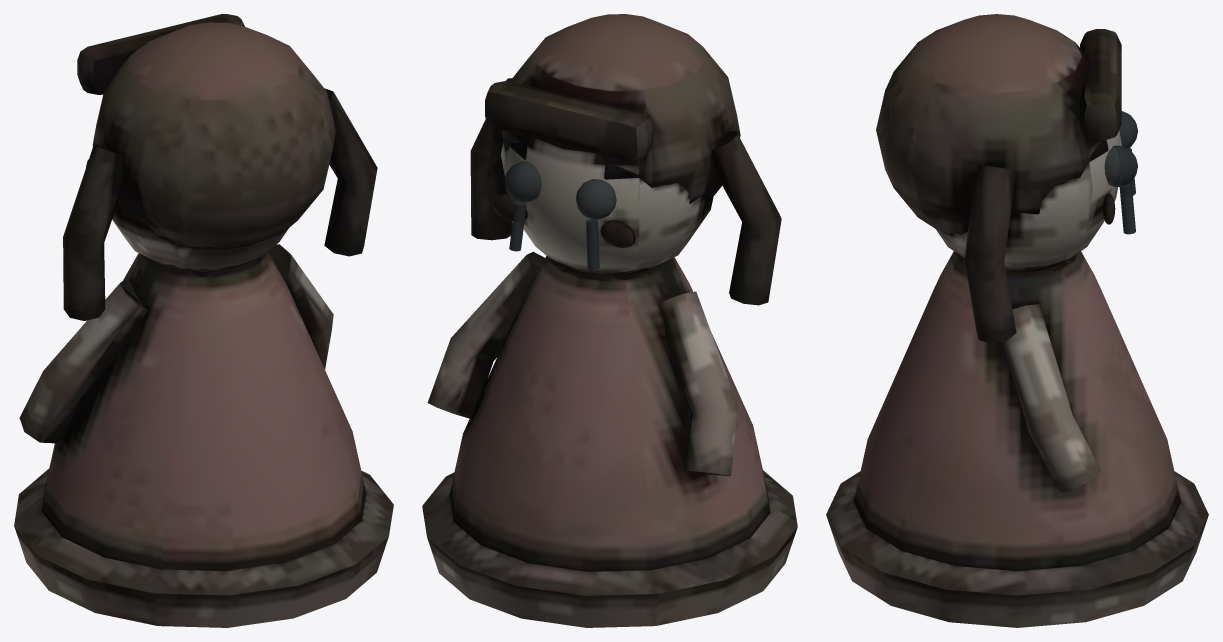
The model's file is CryingDoll.glb.
3 renders of one model, left to right at view 1: azimuth 30°, elevation 25°; view 2: azimuth 150°, elevation 25°; view 3: azimuth 270°, elevation 25°, orthographic.
Visible parts, largest first — view 1: Tex__SmoothPlastic__FFFFFF; view 2: Tex__SmoothPlastic__FFFFFF, Mat1__Glass__24292C__T15; view 3: Tex__SmoothPlastic__FFFFFF, Mat1__Glass__24292C__T15.
Part boxes in pixels (<box>): Tex__SmoothPlastic__FFFFFF: <box>14,14,393,627</box>; Tex__SmoothPlastic__FFFFFF: <box>422,14,797,627</box>; Mat1__Glass__24292C__T15: <box>504,161,616,269</box>; Tex__SmoothPlastic__FFFFFF: <box>826,14,1208,627</box>; Mat1__Glass__24292C__T15: <box>1104,111,1137,234</box>.
Bounding box in the file's own units: 0.2576 × 0.3907 × 0.2576.
Materials: 2 (1 with a texture image).
